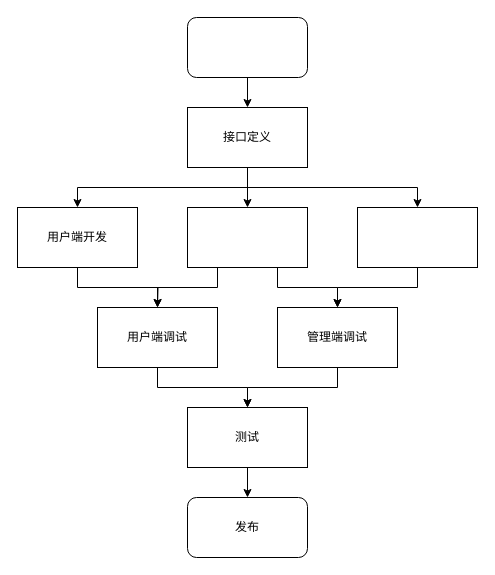
This 495x575 diagram has some shape labels left out. The shapes that lost their labels are listed below. From the top down, each one's centre as x and y in pixels, then its label:
point 247,47: 需求发布
point 247,237: 后端开发
point 417,237: 管理端开发
